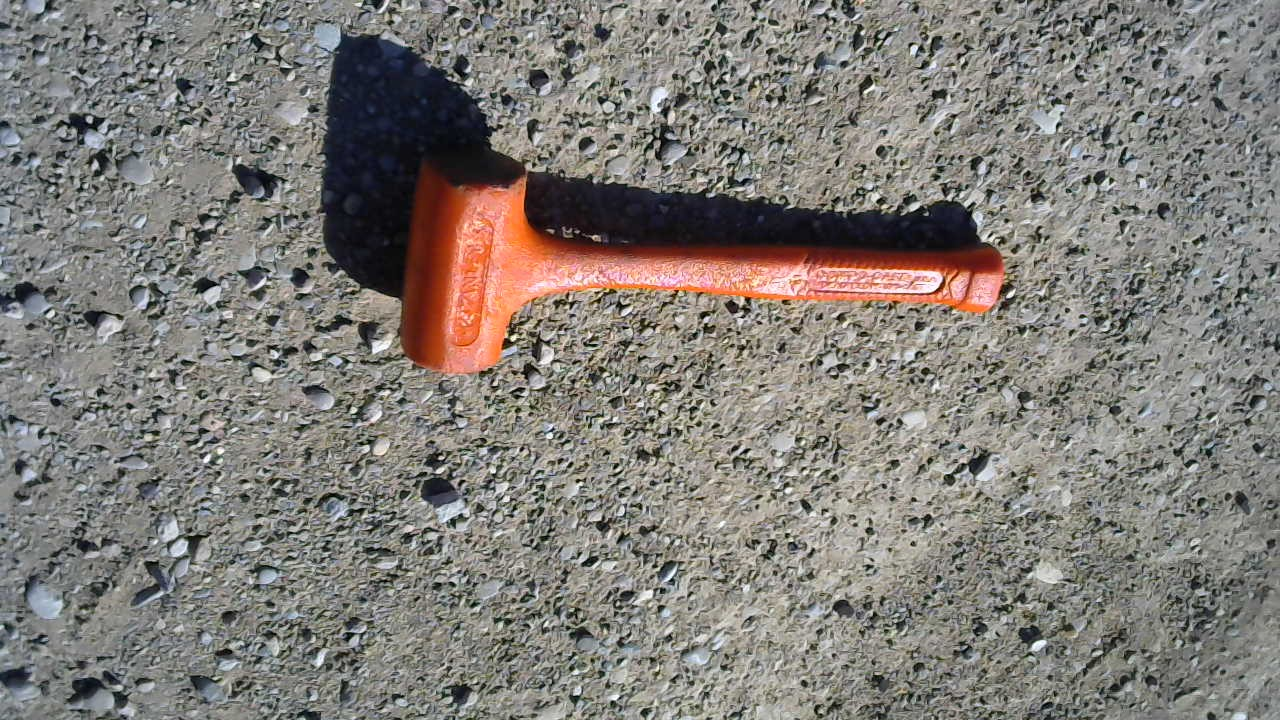hammer: (388, 155, 1012, 381)
